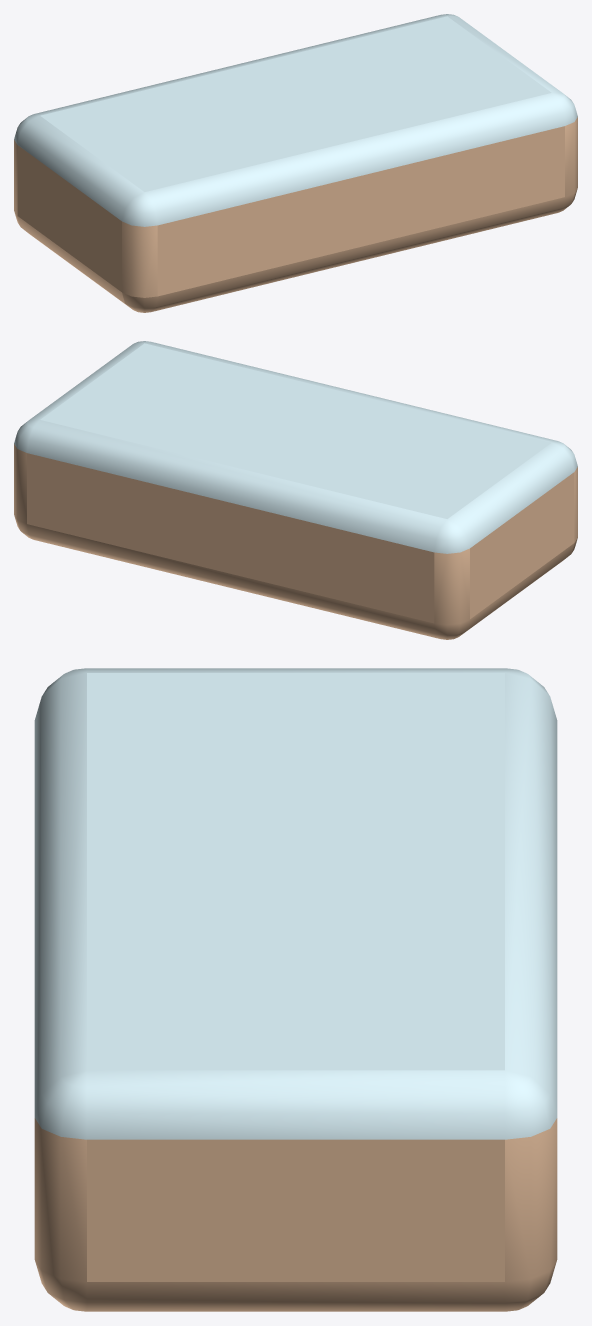
File: blockSnowRoundedLowLong.glb
3 renders of one model, top to bottom at view 1: azimuth 30°, elevation 25°; view 2: azimuth 150°, elevation 25°; view 3: azimuth 270°, elevation 25°, orthographic. The views are drawn at different scales.
Visible parts, largest first — view 1: blockSnowRoundedLowLong; view 2: blockSnowRoundedLowLong; view 3: blockSnowRoundedLowLong.
Part boxes in pixels (x1,y1,x2,y2): blockSnowRoundedLowLong: (14,14,577,312); blockSnowRoundedLowLong: (14,341,577,639); blockSnowRoundedLowLong: (34,668,557,1311).
Size of the model in its own units: 2 by 0.5 by 1.
